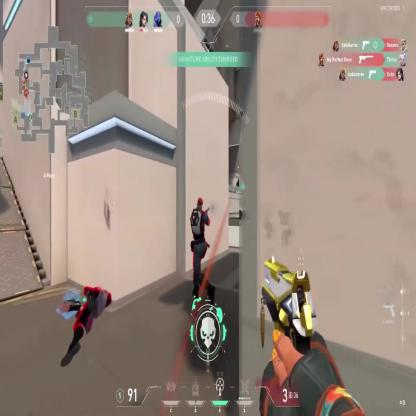enemy: (191, 197, 216, 309)
enemy_head: (196, 197, 204, 213)
